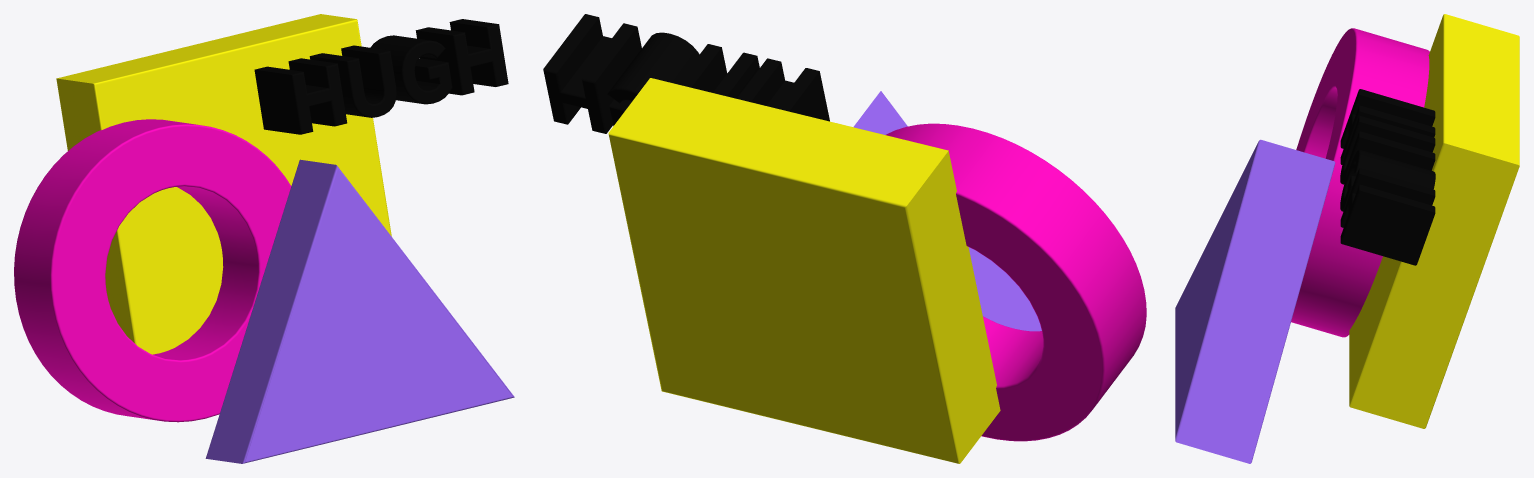
Rendered from Hughicon.glb.
3 renders of one model, left to right at view 1: azimuth 30°, elevation 25°; view 2: azimuth 150°, elevation 25°; view 3: azimuth 270°, elevation 25°, orthographic. The views are drawn at different scales.
Visible parts, largest first — view 1: Polygon 3, Ellipse 5, Rectangle 68, HUGH; view 2: Rectangle 68, Ellipse 5, HUGH, Polygon 3; view 3: Rectangle 68, Polygon 3, Ellipse 5, HUGH.
Boxes of the visible parts, <box> form: Polygon 3: <box>205,159,514,463</box>; Ellipse 5: <box>14,119,291,422</box>; Rectangle 68: <box>56,14,391,354</box>; HUGH: <box>254,19,508,134</box>; Rectangle 68: <box>608,78,1000,463</box>; Ellipse 5: <box>886,123,1146,441</box>; HUGH: <box>543,14,829,133</box>; Polygon 3: <box>853,91,1041,331</box>; Rectangle 68: <box>1349,14,1519,428</box>; Polygon 3: <box>1175,139,1335,463</box>; Ellipse 5: <box>1291,28,1429,337</box>; HUGH: <box>1340,89,1435,265</box>.
Size of the model in its own units: 25 by 15.74 by 15.78.
